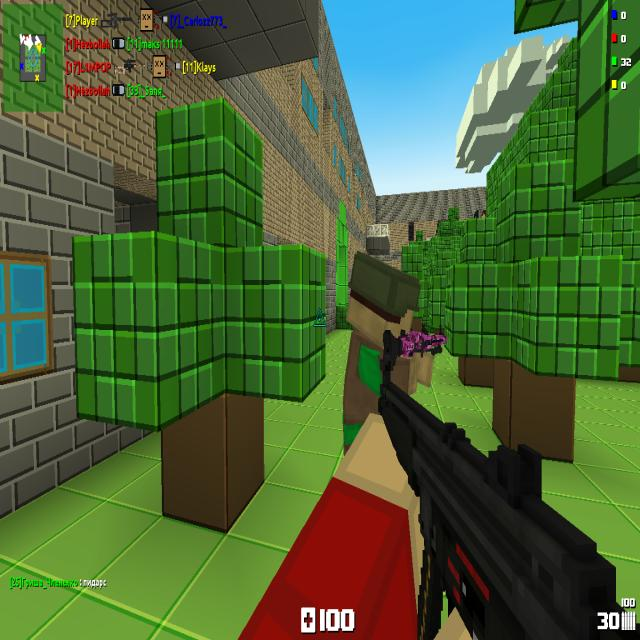enemy: (340, 242, 433, 478)
